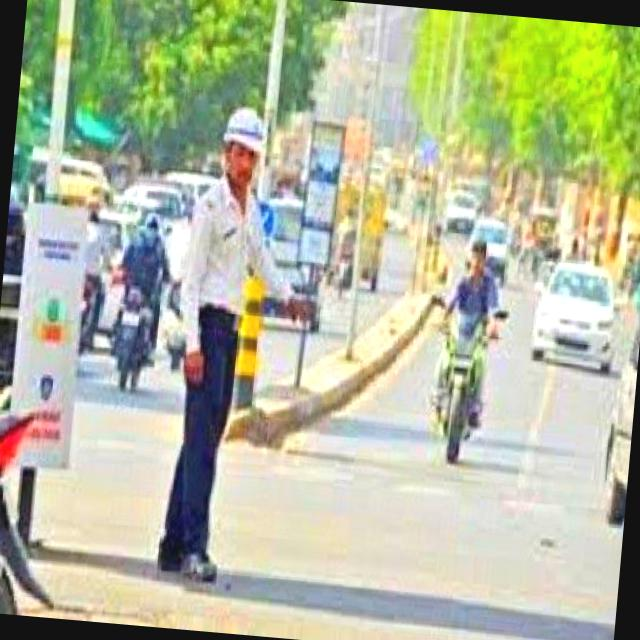Person: (146, 93, 328, 592), (425, 232, 515, 389)
